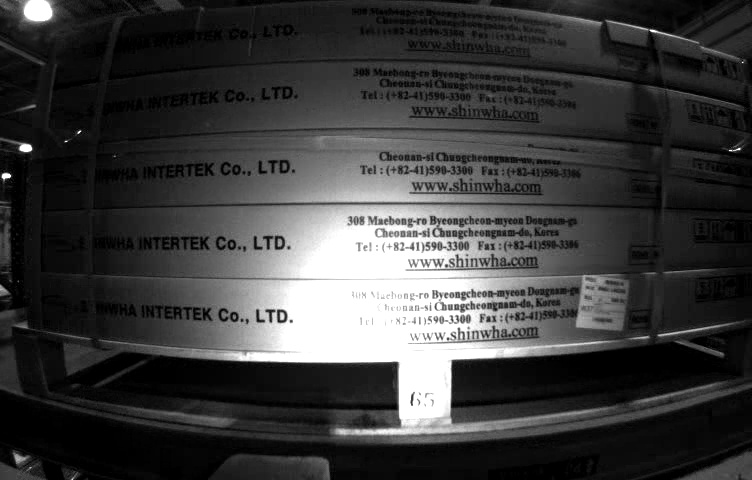True Barcode: (577, 273, 630, 336)
